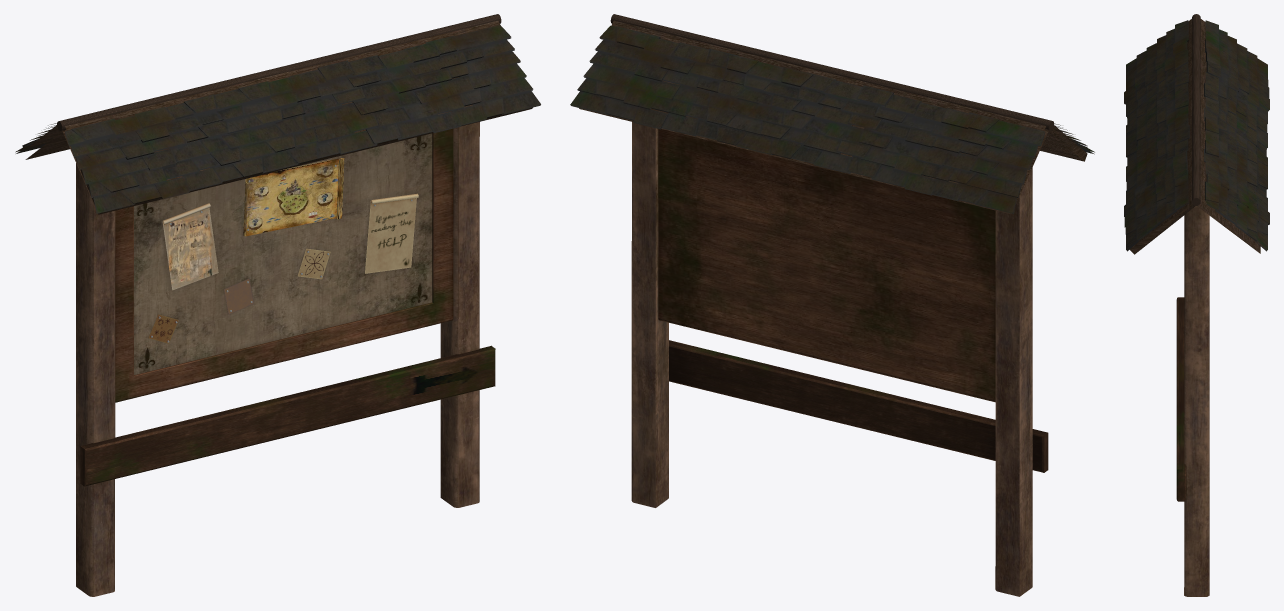
File: notice_board.glb
3 views of the same model, side by side, from view 1: azimuth 30°, elevation 25°; view 2: azimuth 150°, elevation 25°; view 3: azimuth 270°, elevation 25° (orthographic). The views are drawn at different scales.
Parts seen in each view (by area): view 1: defaultMaterial.013, defaultMaterial.008, defaultMaterial.009, defaultMaterial.010, defaultMaterial.007, defaultMaterial.005, defaultMaterial.012, defaultMaterial.001, defaultMaterial.006, defaultMaterial.011, defaultMaterial.004, defaultMaterial.003; view 2: defaultMaterial.007, defaultMaterial.013, defaultMaterial.009, defaultMaterial.010, defaultMaterial.012, defaultMaterial.011; view 3: defaultMaterial.013, defaultMaterial.009, defaultMaterial.012, defaultMaterial.010, defaultMaterial.011.
Boxes of the visible parts, box(x1,y1,x2,y2) form: defaultMaterial.013: box(15, 25, 540, 213); defaultMaterial.008: box(134, 133, 432, 374); defaultMaterial.009: box(76, 122, 479, 596); defaultMaterial.010: box(80, 345, 495, 486); defaultMaterial.007: box(115, 127, 458, 402); defaultMaterial.005: box(243, 158, 344, 236); defaultMaterial.012: box(25, 20, 532, 214); defaultMaterial.001: box(162, 203, 218, 290); defaultMaterial.006: box(364, 193, 418, 273); defaultMaterial.011: box(57, 14, 501, 130); defaultMaterial.004: box(297, 248, 330, 279); defaultMaterial.003: box(224, 278, 253, 314); defaultMaterial.007: box(658, 129, 995, 402); defaultMaterial.013: box(570, 25, 1094, 213); defaultMaterial.009: box(631, 122, 1032, 596); defaultMaterial.010: box(669, 340, 1048, 472); defaultMaterial.012: box(579, 20, 1087, 214); defaultMaterial.011: box(610, 14, 1054, 130); defaultMaterial.013: box(1124, 20, 1269, 251); defaultMaterial.009: box(1184, 206, 1209, 596); defaultMaterial.012: box(1129, 18, 1264, 254); defaultMaterial.010: box(1176, 297, 1186, 501); defaultMaterial.011: box(1192, 14, 1200, 205).
Size of the model in its own units: 17.06 by 17.5 by 5.66.
Materials: 14 (14 with a texture image).
